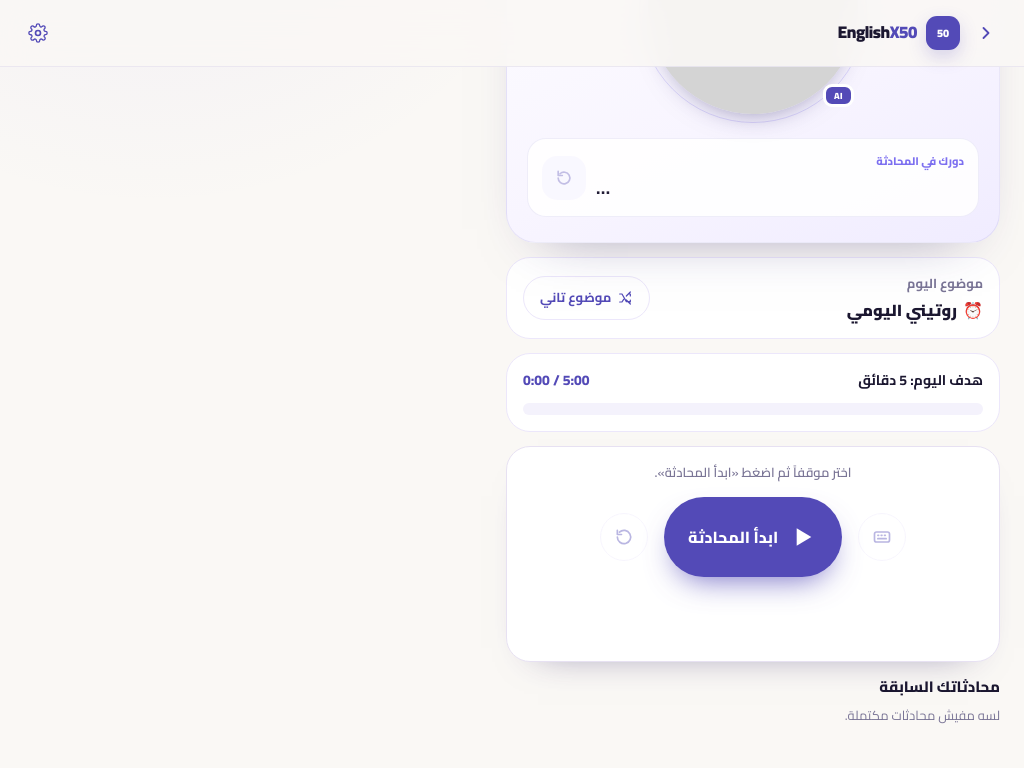
it: SpeakScreen › shows the microphone-denied state
(page scrolled)
Click the button "ابدأ المحادثة" at (753, 536), box [664, 496, 842, 576]
(page scrolled)
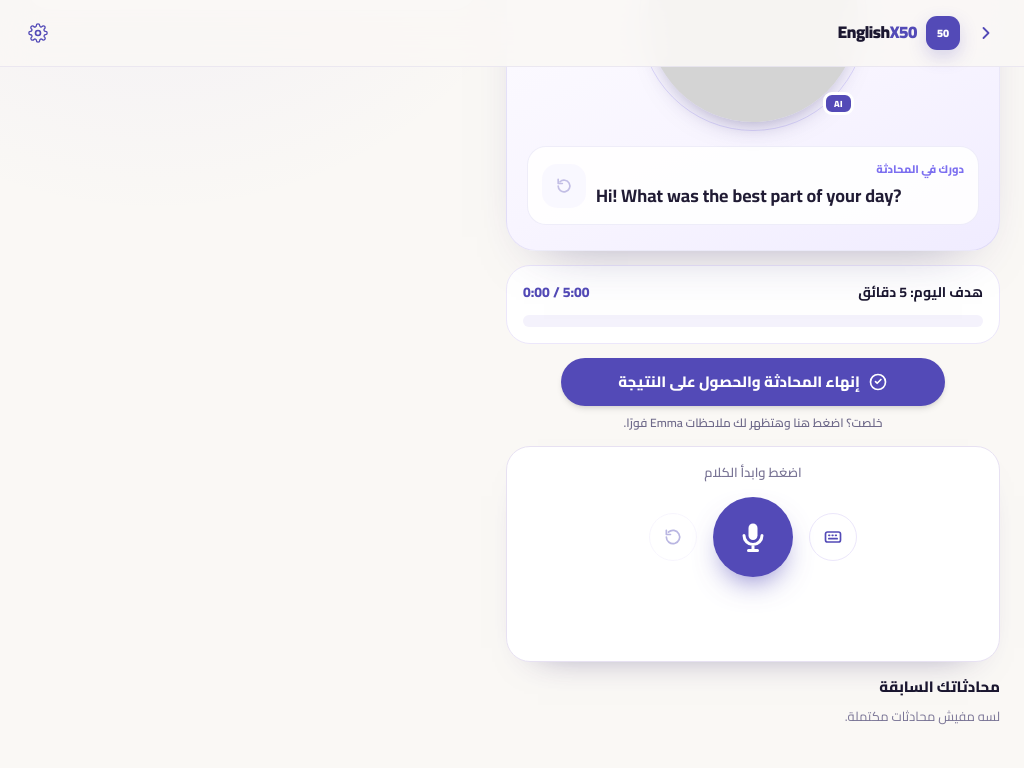
Expected: the button named "ابدأ التسجيل" is shown
Expected: the button named "ابدأ التسجيل" is enabled
Click the button named "ابدأ التسجيل" at (753, 537), box [713, 497, 793, 577]
(page scrolled)
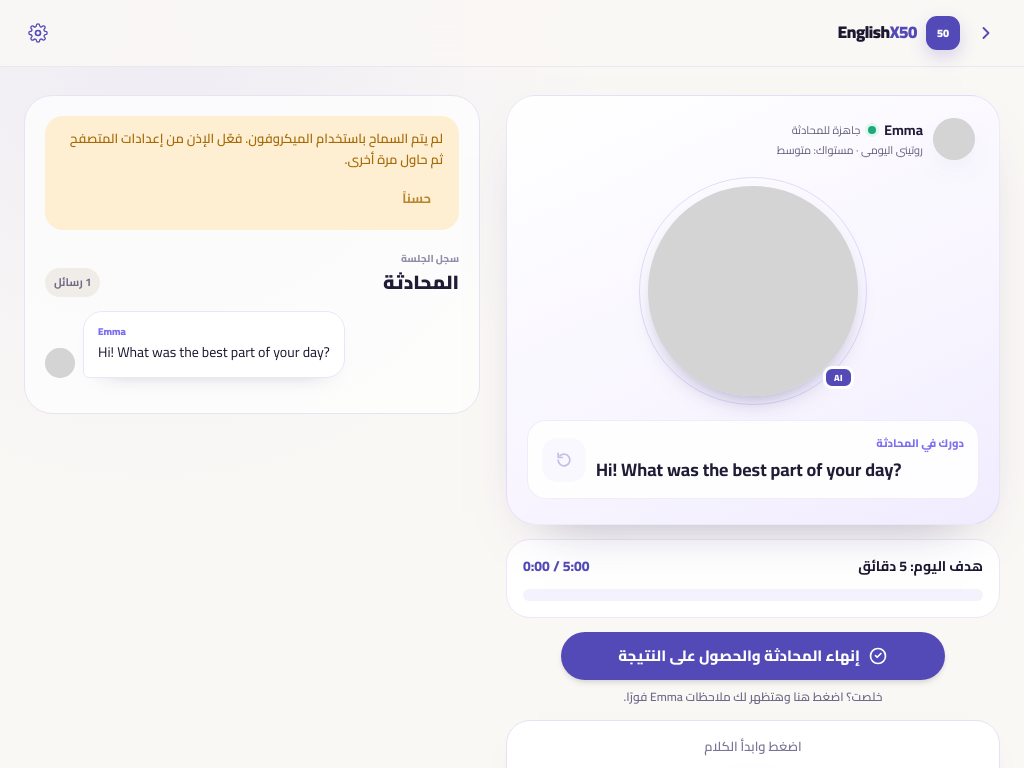
Expected: the 1st message shows "لم يتم السماح باستخدام الميكروفون", [70, 126, 443, 171]
